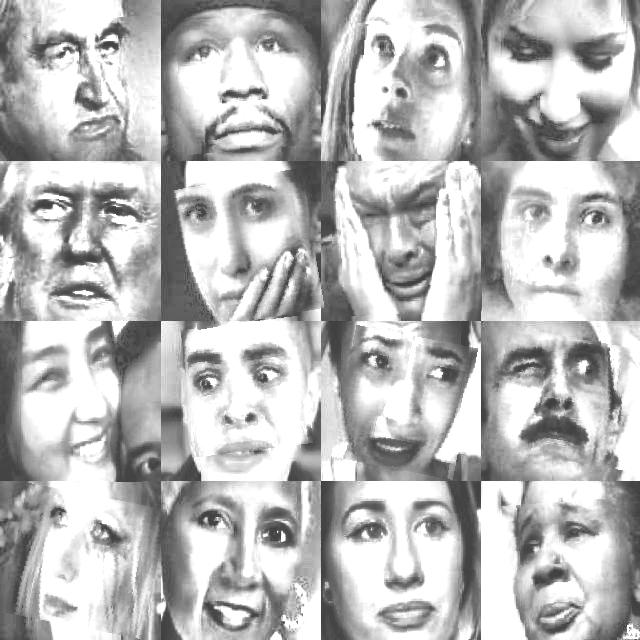angry: (23, 18, 143, 153)
fear: (184, 320, 310, 454), (350, 24, 456, 158)
happy: (493, 332, 640, 465), (498, 16, 631, 158), (19, 342, 145, 482)
neutral: (12, 171, 160, 317), (178, 173, 318, 325), (337, 500, 475, 640), (494, 169, 634, 303), (180, 502, 326, 628), (177, 14, 309, 152)
sad: (7, 489, 162, 633), (331, 170, 481, 315), (337, 331, 473, 475), (503, 499, 631, 640)
